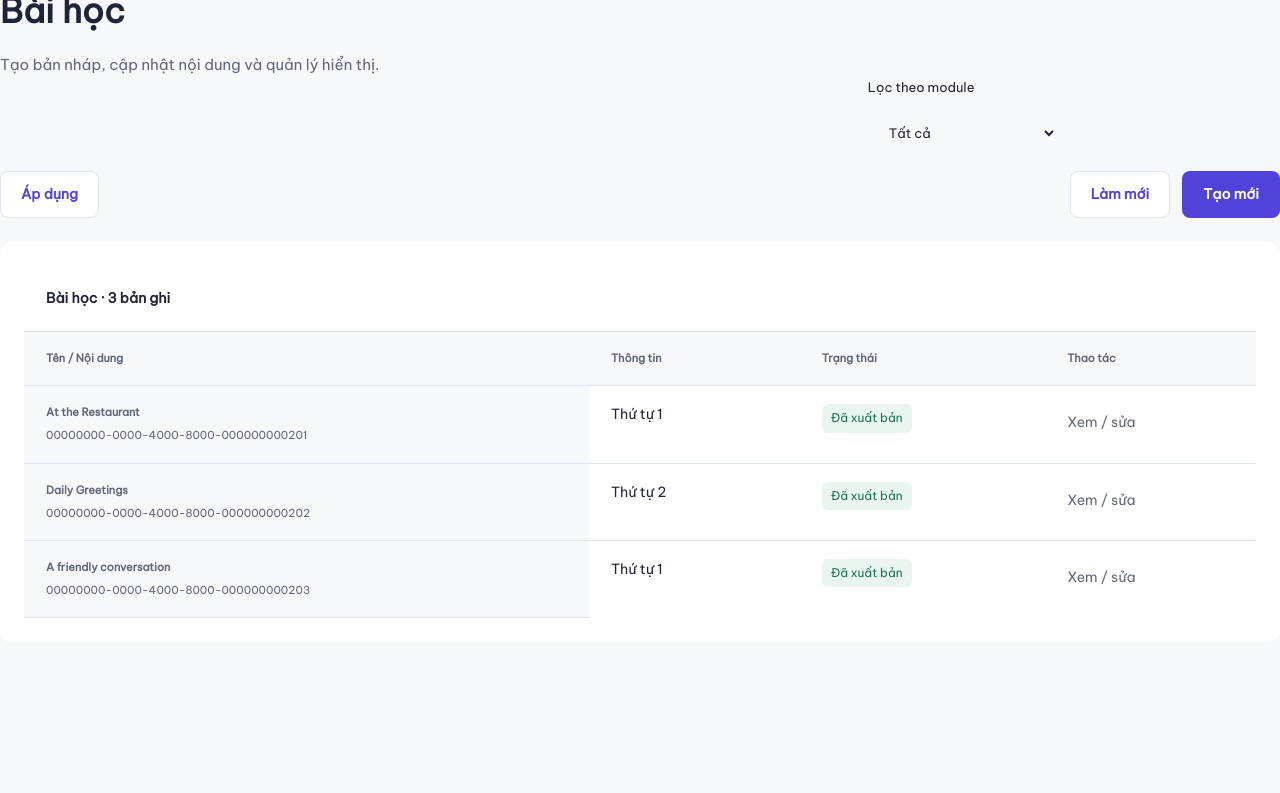
keeps Lesson edits and published status unconfirmed on HTTP 409
Click the button "Xem / sửa" in the row of "At the Restaurant" at point(1101, 423), box [1067,404,1135,442]
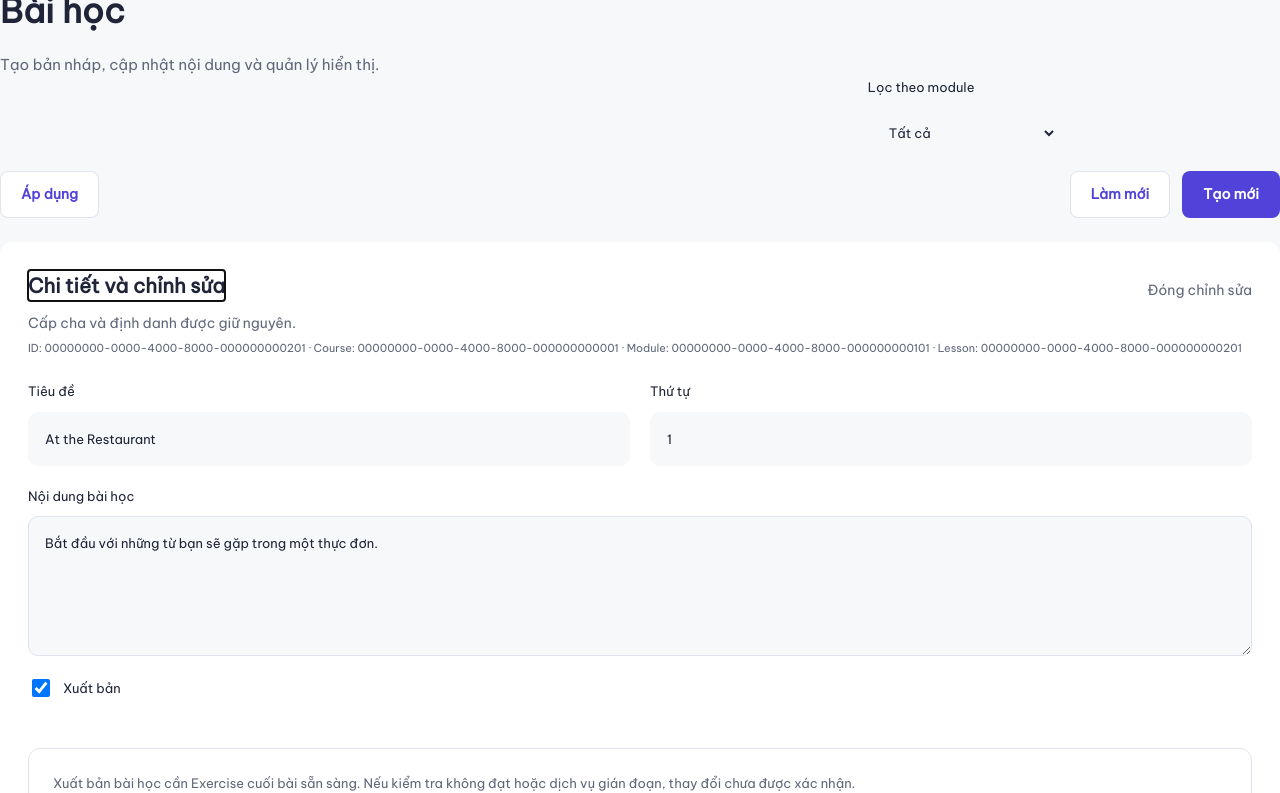
Replace the text in the field labelled "Tiêu đề" with "Bản đang chỉnh" at point(329, 439), box [28,412,630,466]
(page scrolled)
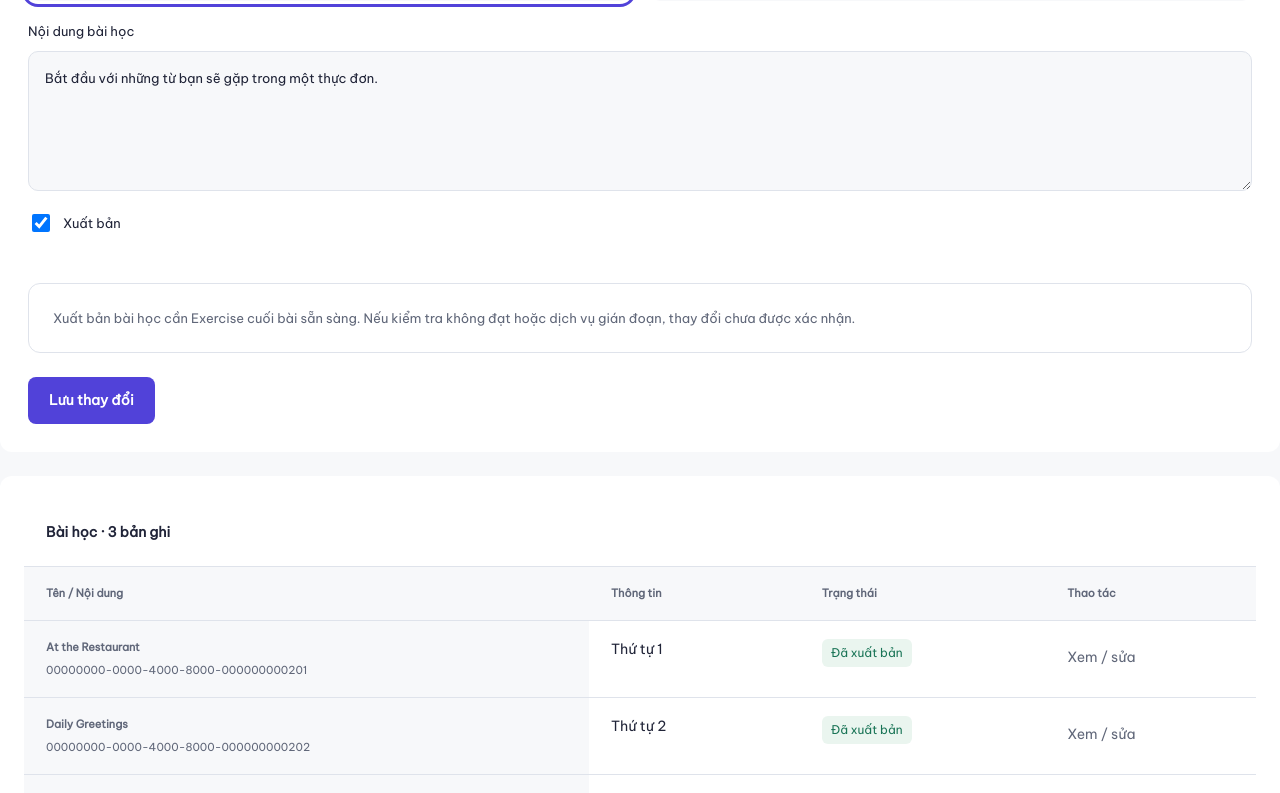
Click the button "Lưu thay đổi" at point(91, 400), box [28,377,155,424]
(page scrolled)
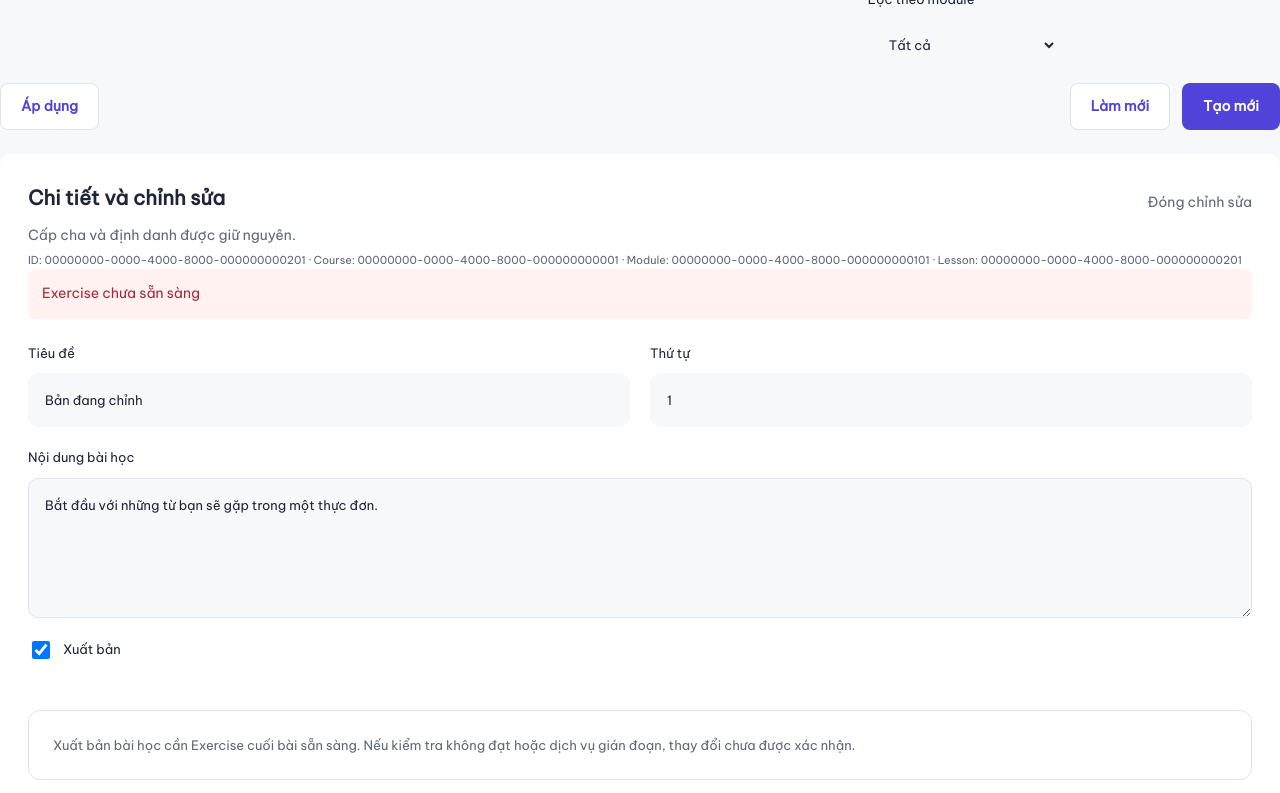
Result: the text "Exercise chưa sẵn sàng" is shown at [42,284,200,302]
